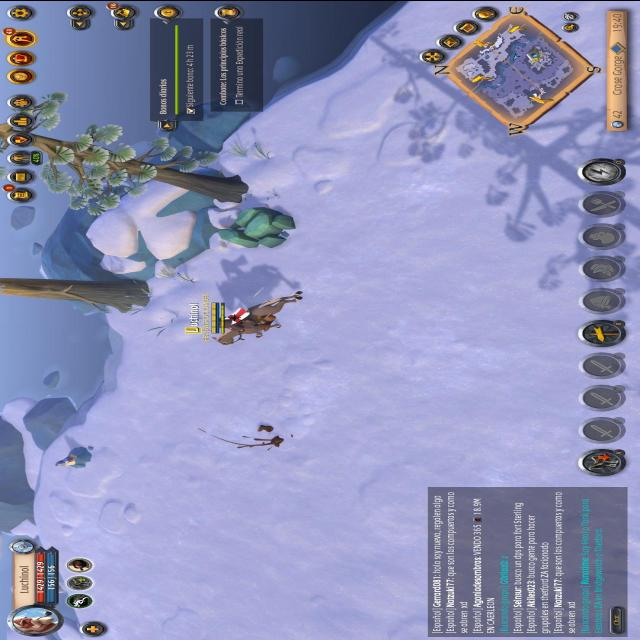piedra_cobre: (52, 439, 100, 470)
